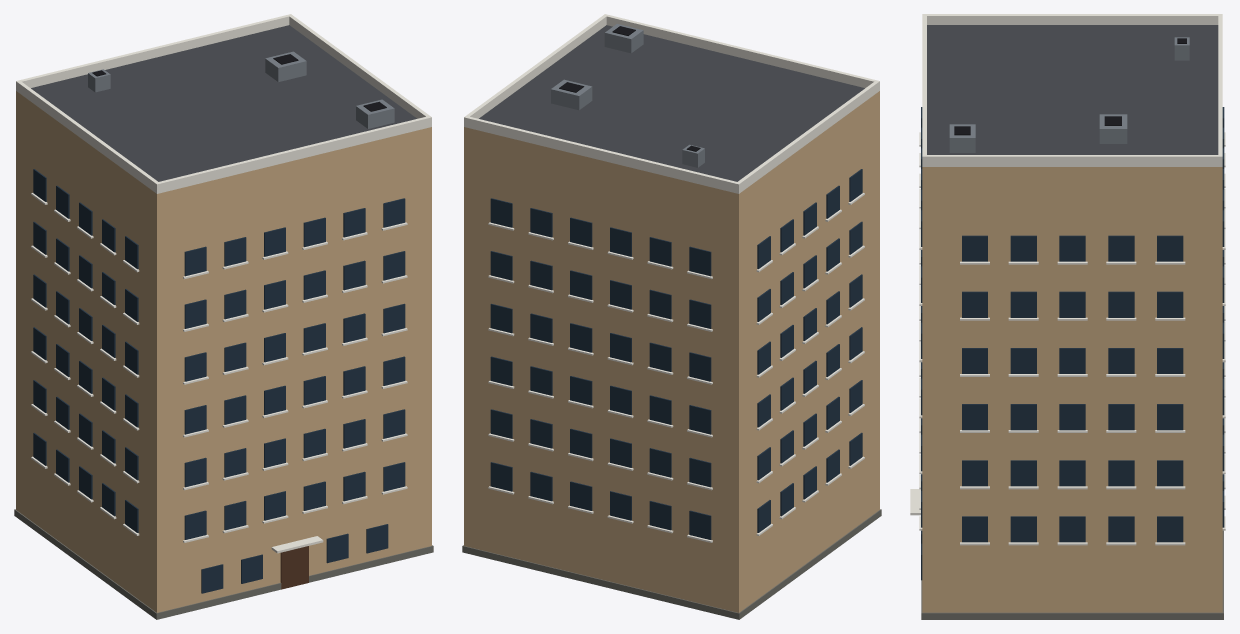
File: apartment_b.glb
3 renders of one model, left to right at view 1: azimuth 30°, elevation 25°; view 2: azimuth 150°, elevation 25°; view 3: azimuth 270°, elevation 25°, orthographic. The views are drawn at different scales.
Parts seen in each view (by area): view 1: apartment_b_Body; view 2: apartment_b_Body; view 3: apartment_b_Body.
Boxes of the visible parts, box(x1,y1,x2,y2) form: apartment_b_Body: box(14, 14, 433, 619); apartment_b_Body: box(462, 14, 881, 619); apartment_b_Body: box(910, 14, 1225, 619).
Bounding box in the file's own units: 18.32 × 27.59 × 16.81.
